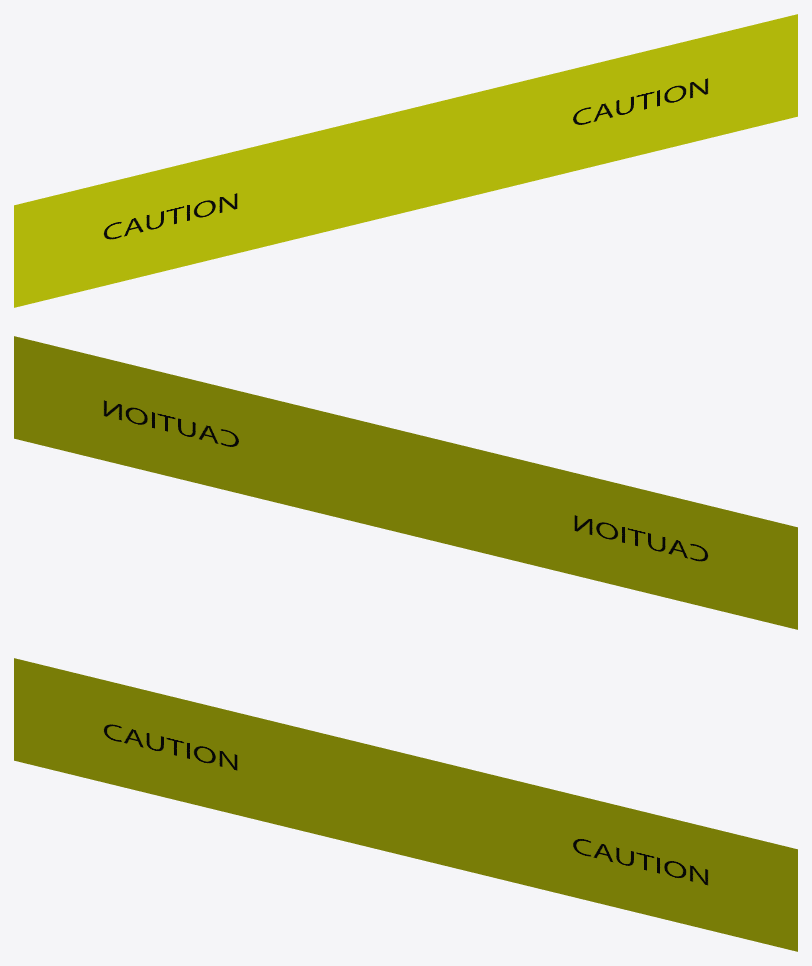
Rendered from CAUTION tape.fbx.
The picture shows the model from 3 angles, top to bottom: view 1: azimuth 30°, elevation 25°; view 2: azimuth 150°, elevation 25°; view 3: azimuth 330°, elevation 25°; orthographic projection.
Parts seen in each view (by area): view 1: pPlane1; view 2: pPlane1; view 3: pPlane1.
Part boxes in pixels (x1,y1,x2,y2): pPlane1: [14, 14, 797, 307]; pPlane1: [14, 336, 797, 629]; pPlane1: [14, 658, 797, 951].
Bounding box in the file's own units: 122 × 15.24 × 5.83e-15.
Materials: 1 (1 with a texture image).
